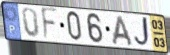0: (65, 10, 84, 44), (21, 7, 40, 40)
6: (86, 11, 105, 45)
A: (111, 14, 135, 48)
F: (40, 7, 60, 43)
J: (132, 15, 152, 49)
